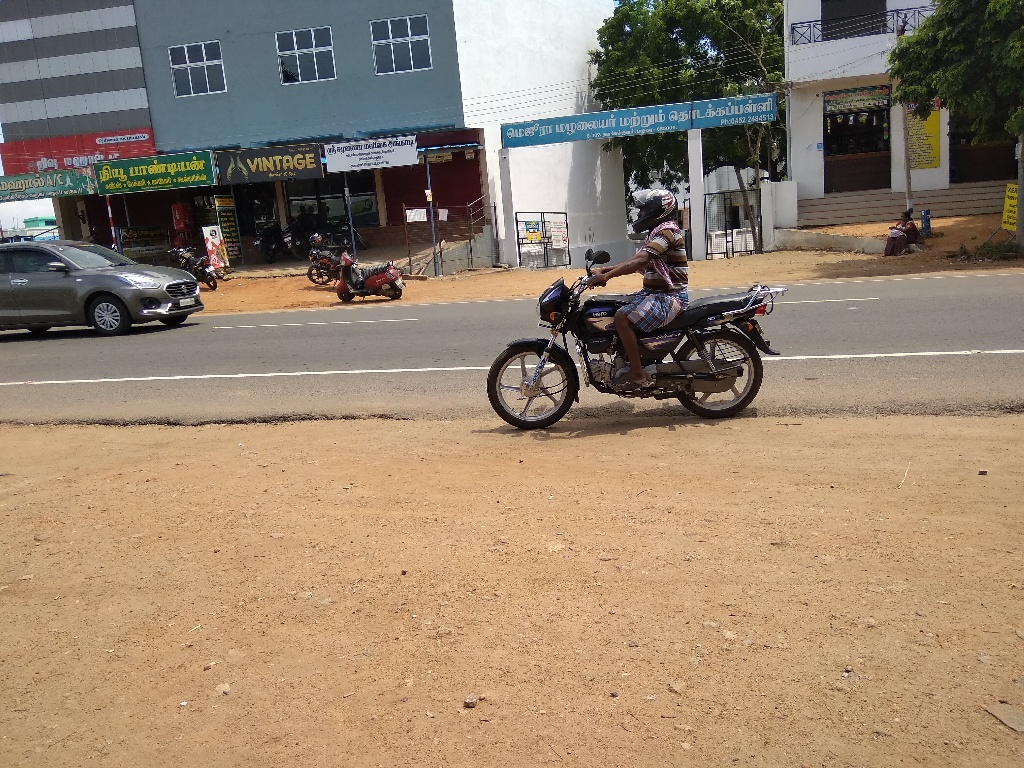biker: (470, 146, 800, 439)
helmet: (614, 168, 697, 249)
